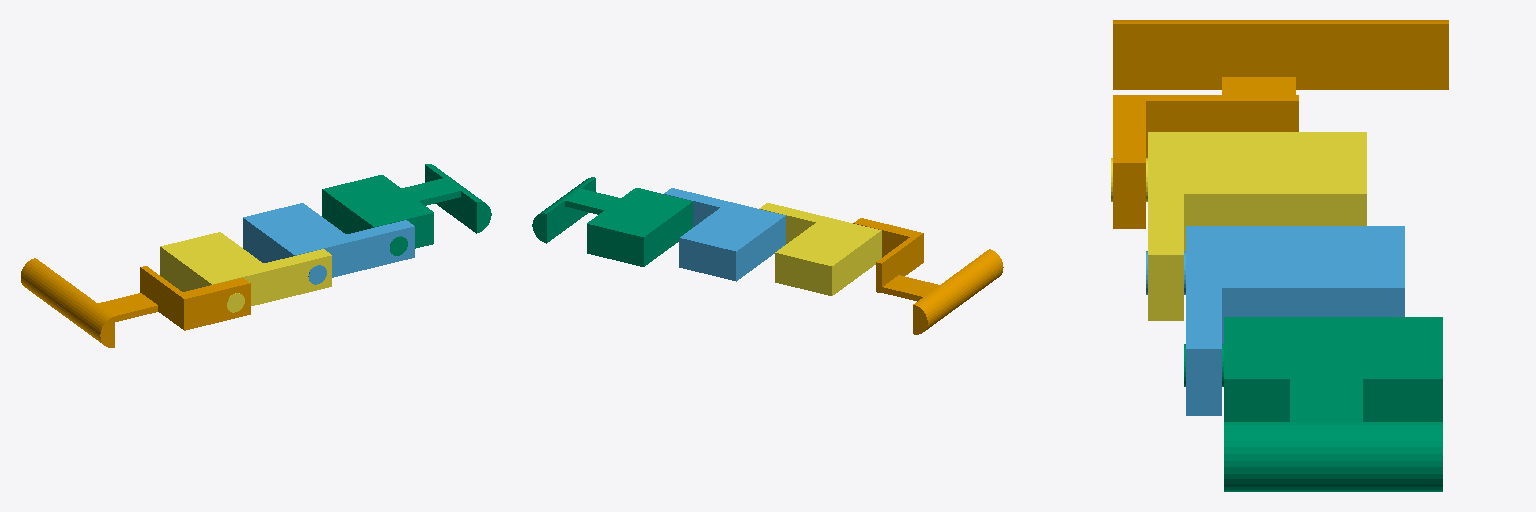
The robot description file, URDF, robot "(Unsaved)":
<?xml version="1.0" ?>
<robot name="(Unsaved)">

<material name="silver">
  <color rgba="0.700 0.700 0.700 1.000"/>
</material>

<link name="base_link">
  <inertial>
    <origin xyz="-0.003723017661620989 -0.03839068766925433 0.0044850925911276325" rpy="0 0 0"/>
    <mass value="0.027823914085875777"/>
    <inertia ixx="4.918599006495931e-06" iyy="6.9903848065557275e-06" izz="1.1449672421451275e-05" ixy="3.4025605874703956e-06" iyz="4.857749151382589e-08" ixz="1.8341174559278346e-09"/>
  </inertial>
  <visual>
    <origin xyz="0 0 0" rpy="0 0 0"/>
    <geometry>
      <mesh filename="meshes/base_link.stl" scale="0.001 0.001 0.001"/>
    </geometry>
    <material name="silver"/>
    <material/>
  </visual>
  <collision>
    <origin xyz="0 0 0" rpy="0 0 0"/>
    <geometry>
      <mesh filename="meshes/base_link.stl" scale="0.001 0.001 0.001"/>
    </geometry>
  </collision>
</link>

<link name="Component51">
  <inertial>
    <origin xyz="0.007735641401734307 0.015826293843314305 1.5016113352750438e-13" rpy="0 0 0"/>
    <mass value="0.055060976760488045"/>
    <inertia ixx="5.24179682934857e-06" iyy="4.525672307376479e-06" izz="8.851136407937287e-06" ixy="1.2666568670877522e-06" iyz="5.649540351596732e-16" ixz="2.54448019728834e-15"/>
  </inertial>
  <visual>
    <origin xyz="-0.055 0.04775 -0.005" rpy="0 0 0"/>
    <geometry>
      <mesh filename="meshes/Component51.stl" scale="0.001 0.001 0.001"/>
    </geometry>
    <material name="silver"/>
    <material/>
  </visual>
  <collision>
    <origin xyz="-0.055 0.04775 -0.005" rpy="0 0 0"/>
    <geometry>
      <mesh filename="meshes/Component51.stl" scale="0.001 0.001 0.001"/>
    </geometry>
  </collision>
</link>

<link name="tail1">
  <inertial>
    <origin xyz="0.009562893705634248 0.01735166190100308 0.0001464248283359077" rpy="0 0 0"/>
    <mass value="0.0597562577682757"/>
    <inertia ixx="5.111943280046743e-06" iyy="7.84122063657907e-06" izz="1.1978175450237725e-05" ixy="-1.806580661749453e-07" iyz="5.054442085494293e-09" ixz="-1.0882218798841358e-07"/>
  </inertial>
  <visual>
    <origin xyz="-0.085 0.0425 -0.005" rpy="0 0 0"/>
    <geometry>
      <mesh filename="meshes/tail1.stl" scale="0.001 0.001 0.001"/>
    </geometry>
    <material name="silver"/>
    <material/>
  </visual>
  <collision>
    <origin xyz="-0.085 0.0425 -0.005" rpy="0 0 0"/>
    <geometry>
      <mesh filename="meshes/tail1.stl" scale="0.001 0.001 0.001"/>
    </geometry>
  </collision>
</link>

<link name="Component61">
  <inertial>
    <origin xyz="0.00725126423339429 0.015613305480676562 -1.5047182250205182e-12" rpy="0 0 0"/>
    <mass value="0.05495000018190508"/>
    <inertia ixx="5.204197720858552e-06" iyy="4.485225653276387e-06" izz="8.773590039983051e-06" ixy="1.2851957168113543e-06" iyz="-8.775532384097673e-16" ixz="1.8809586321225785e-15"/>
  </inertial>
  <visual>
    <origin xyz="-0.025 0.05275 -0.005" rpy="0 0 0"/>
    <geometry>
      <mesh filename="meshes/Component61.stl" scale="0.001 0.001 0.001"/>
    </geometry>
    <material name="silver"/>
    <material/>
  </visual>
  <collision>
    <origin xyz="-0.025 0.05275 -0.005" rpy="0 0 0"/>
    <geometry>
      <mesh filename="meshes/Component61.stl" scale="0.001 0.001 0.001"/>
    </geometry>
  </collision>
</link>

<joint name="Revolute_3" type="revolute">
  <origin xyz="0.03 0.005 0.0" rpy="0 0 0"/>
  <parent link="Component61"/>
  <child link="Component51"/>
  <axis xyz="0.0 1.0 0.0"/>
  <limit upper="1.570796" lower="-1.570796" effort="100" velocity="100"/>
</joint>
<transmission name="Revolute_3_tran">
  <type>transmission_interface/SimpleTransmission</type>
  <joint name="Revolute_3">
    <hardwareInterface>PositionJointInterface</hardwareInterface>
  </joint>
  <actuator name="Revolute_3_actr">
    <hardwareInterface>PositionJointInterface</hardwareInterface>
    <mechanicalReduction>1</mechanicalReduction>
  </actuator>
</transmission>

<joint name="Revolute_4" type="revolute">
  <origin xyz="0.03 0.00525 0.0" rpy="0 0 0"/>
  <parent link="Component51"/>
  <child link="tail1"/>
  <axis xyz="0.0 1.0 -0.0"/>
  <limit upper="1.570796" lower="-1.570796" effort="100" velocity="100"/>
</joint>
<transmission name="Revolute_4_tran">
  <type>transmission_interface/SimpleTransmission</type>
  <joint name="Revolute_4">
    <hardwareInterface>PositionJointInterface</hardwareInterface>
  </joint>
  <actuator name="Revolute_4_actr">
    <hardwareInterface>PositionJointInterface</hardwareInterface>
    <mechanicalReduction>1</mechanicalReduction>
  </actuator>
</transmission>

<joint name="Revolute_6" type="revolute">
  <origin xyz="0.025 -0.05275 0.005" rpy="0 0 0"/>
  <parent link="base_link"/>
  <child link="Component61"/>
  <axis xyz="0.0 1.0 0.0"/>
  <limit upper="1.570796" lower="-1.570796" effort="100" velocity="100"/>
</joint>
<transmission name="Revolute_6_tran">
  <type>transmission_interface/SimpleTransmission</type>
  <joint name="Revolute_6">
    <hardwareInterface>PositionJointInterface</hardwareInterface>
  </joint>
  <actuator name="Revolute_6_actr">
    <hardwareInterface>PositionJointInterface</hardwareInterface>
    <mechanicalReduction>1</mechanicalReduction>
  </actuator>
</transmission>

</robot>

--- Render facts (derived) ---
3 views of the same robot in one strip: view 1: azimuth 30°, elevation 25°; view 2: azimuth 150°, elevation 25°; view 3: azimuth 270°, elevation 25° (orthographic).
Robot: (Unsaved) — 4 links, 3 joints (3 revolute); root link base_link; default pose: all joints at 0.
Links seen in each view (by area): view 1: base_link, tail1, Component51, Component61; view 2: tail1, Component61, Component51, base_link; view 3: tail1, base_link, Component61, Component51.
Boxes of the visible links, x1,y1,x2,y2 form: base_link: [21, 258, 250, 347]; tail1: [322, 164, 491, 255]; Component51: [243, 203, 414, 284]; Component61: [160, 232, 331, 312]; tail1: [532, 177, 692, 266]; Component61: [759, 203, 881, 295]; Component51: [664, 188, 785, 281]; base_link: [853, 218, 1003, 334]; tail1: [1184, 317, 1442, 491]; base_link: [1113, 20, 1448, 228]; Component61: [1111, 132, 1366, 320]; Component51: [1146, 226, 1404, 415].
Size in the robot's own frame: 0.139 by 0.0463 by 0.01 metres.
4 mesh visuals loaded from 4 distinct referenced files (4 binary STL).